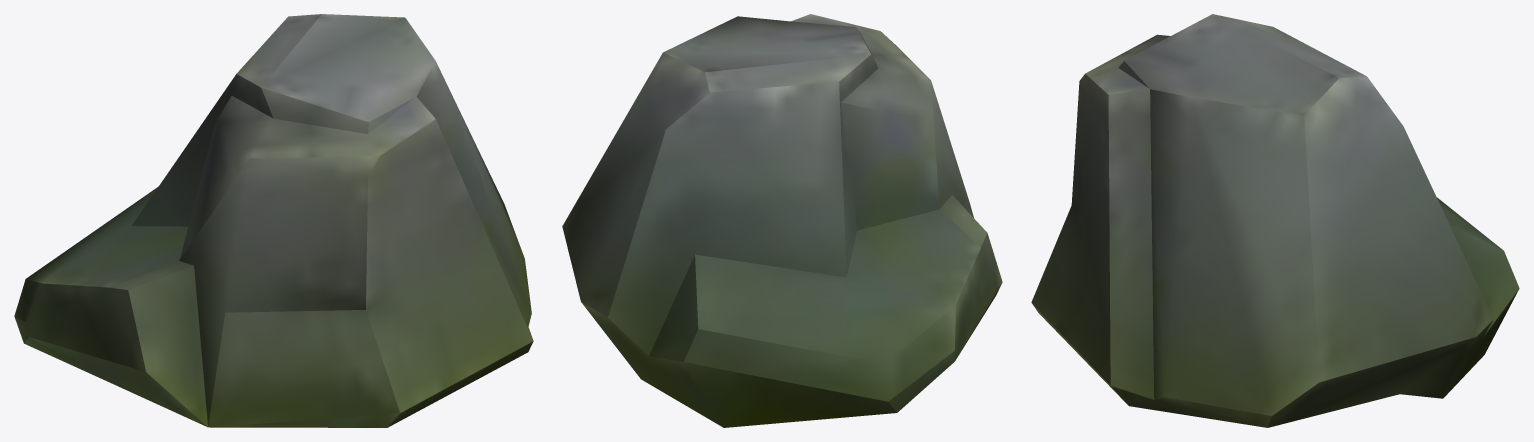
The model's file is rocher-moyen.lod1.glb.
The picture shows the model from 3 angles, left to right: view 1: azimuth 30°, elevation 25°; view 2: azimuth 150°, elevation 25°; view 3: azimuth 270°, elevation 25°; orthographic projection. The views are drawn at different scales.
Parts seen in each view (by area): view 1: Rock_Medium_1; view 2: Rock_Medium_1; view 3: Rock_Medium_1.
Part boxes in pixels (x1,y1,x2,y2): Rock_Medium_1: [14, 14, 533, 427]; Rock_Medium_1: [562, 14, 1002, 427]; Rock_Medium_1: [1031, 14, 1519, 427].
Size of the model in its own units: 3.23 by 2.21 by 2.99.
1 material, 1 textured.
